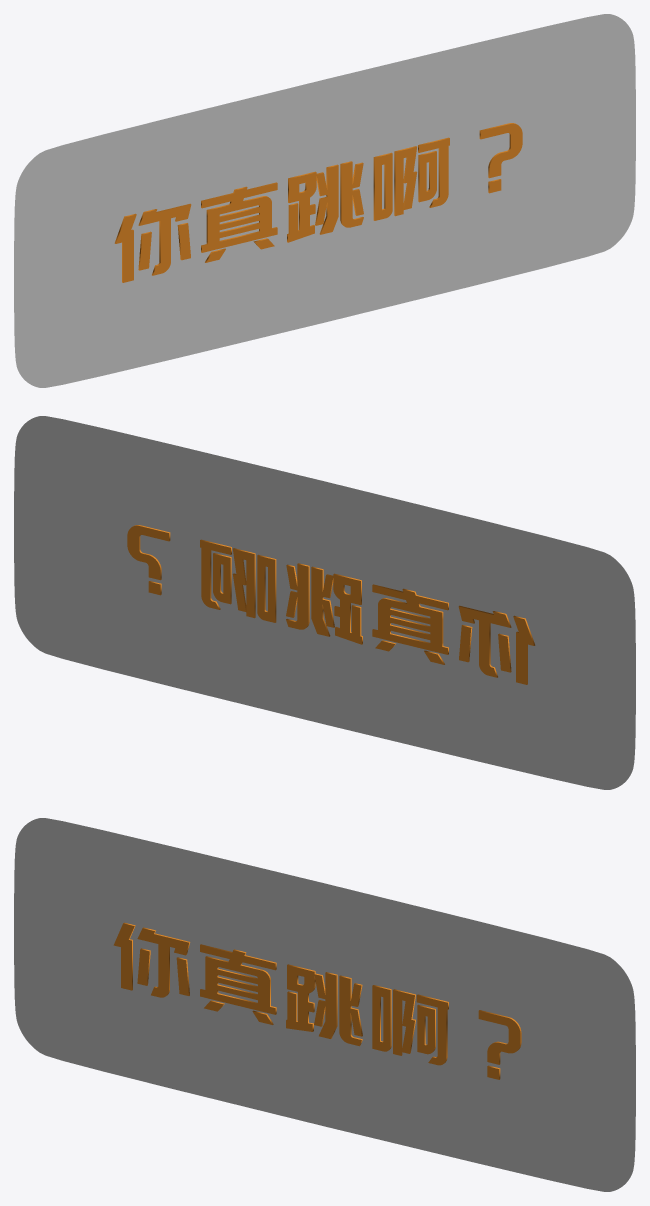
Rendered from 你真跳啊提示牌.fbx.
3 renders of one model, top to bottom at view 1: azimuth 30°, elevation 25°; view 2: azimuth 150°, elevation 25°; view 3: azimuth 330°, elevation 25°, orthographic.
Visible parts, largest first — view 1: 平面; view 2: 平面; view 3: 平面.
Part boxes in pixels (box(x1,y1,x2,y2)): 平面: box(14, 14, 635, 387); 平面: box(14, 416, 635, 789); 平面: box(14, 818, 635, 1191).
Bounding box in the file's own units: 150 × 56.01 × 0.8815.
